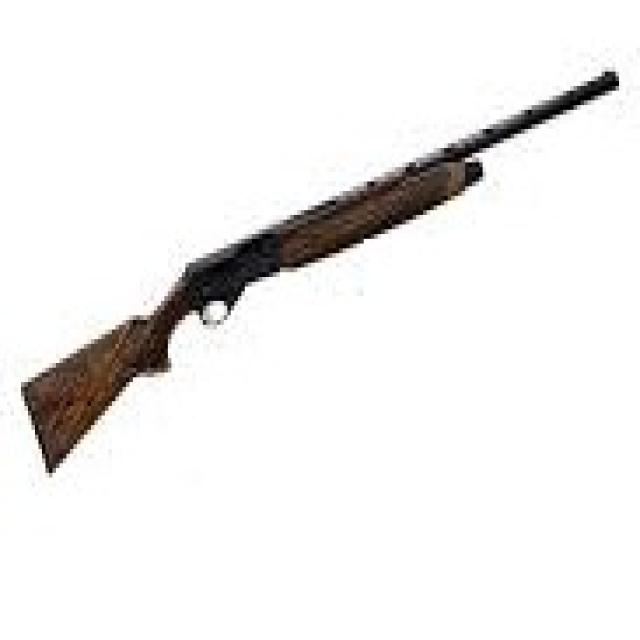rifle: (19, 62, 627, 486)
